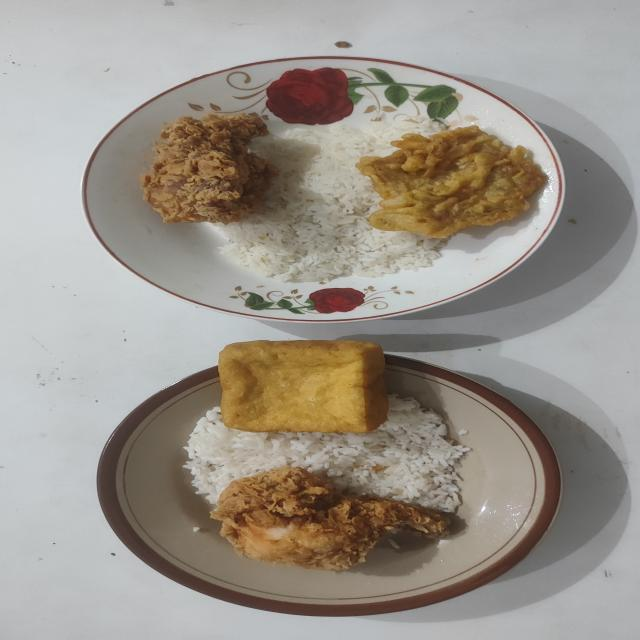nasi_putih: (216, 118, 445, 284), (183, 394, 470, 512)
tahu_goreng: (218, 341, 388, 434)
